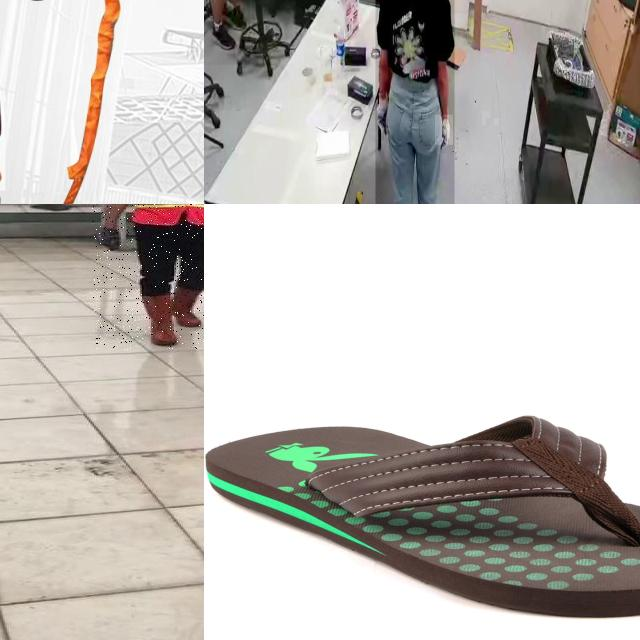Sandals: (204, 412, 640, 573)
boots: (142, 292, 178, 345), (178, 286, 202, 331)
hand_glove: (374, 99, 392, 137), (435, 114, 453, 146)
person: (92, 204, 204, 351), (375, 0, 454, 204)
shoes: (208, 17, 236, 55), (221, 0, 247, 35)
vest: (133, 204, 204, 229)
